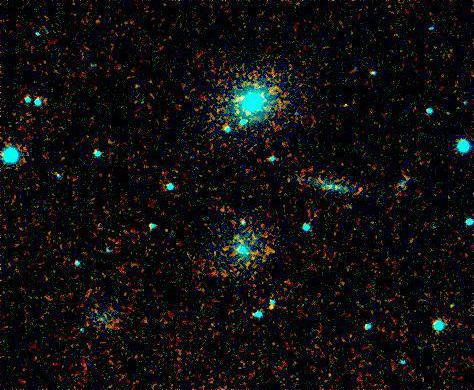star: (256, 294, 286, 324)
